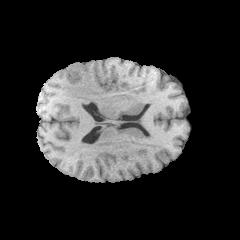glioma: (64, 64, 106, 111)
